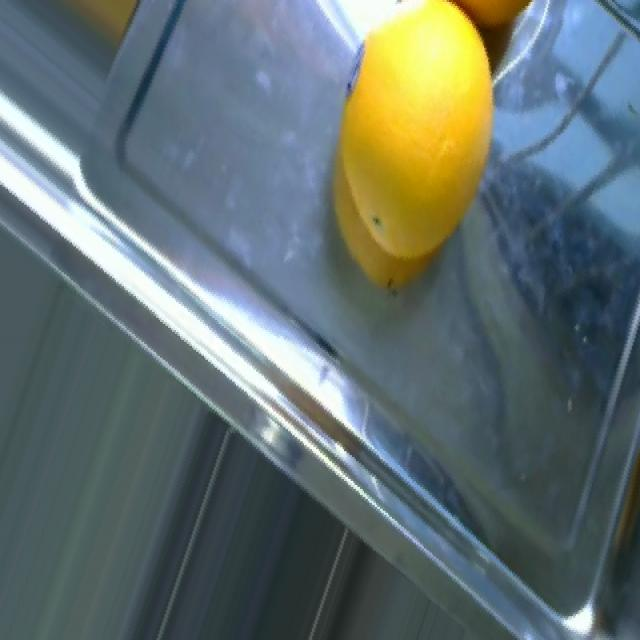Fruit: (322, 0, 498, 294), (16, 0, 171, 60)
